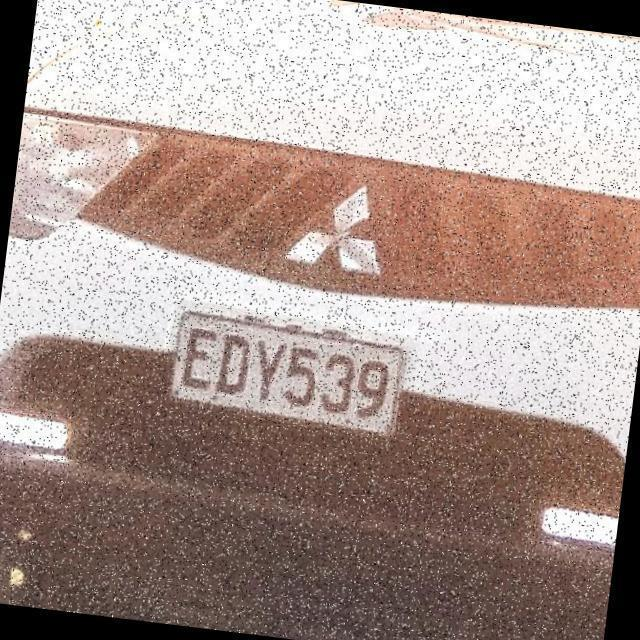license_plate: (156, 297, 428, 459)
